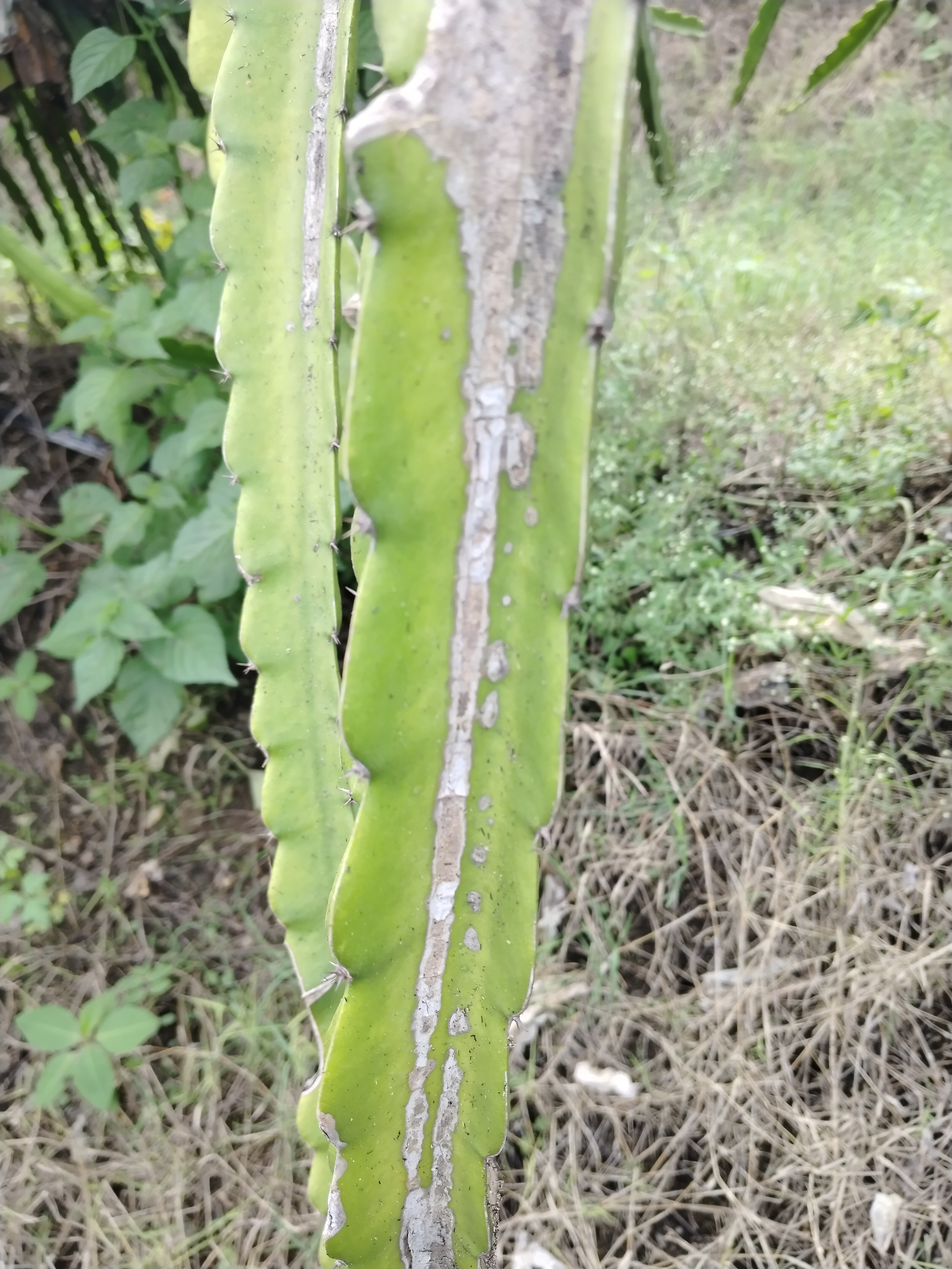stemcanker: (292, 1, 637, 1269), (202, 1, 358, 1021)
